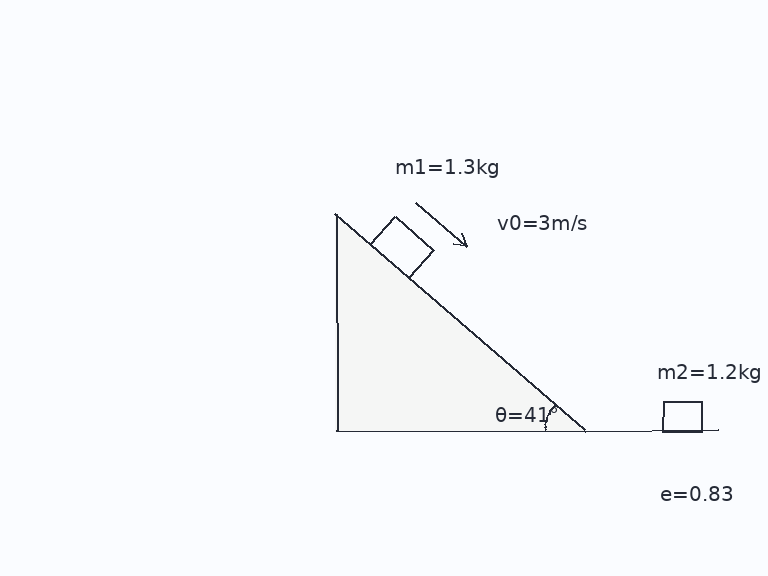block: (368, 214, 435, 280), (660, 400, 704, 433)
ramp: (334, 213, 587, 433)
